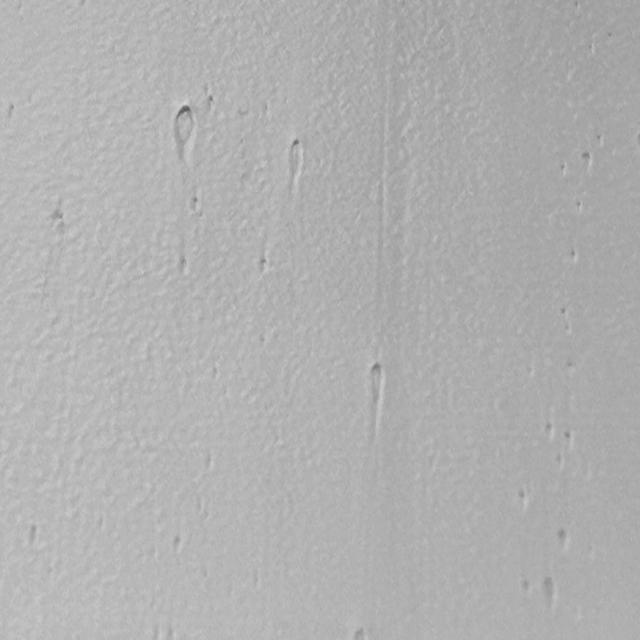pin holes: (170, 106, 200, 156), (284, 141, 305, 180), (367, 362, 386, 397), (540, 576, 558, 608), (25, 524, 46, 549), (554, 528, 572, 555), (578, 151, 596, 174), (514, 487, 532, 510), (564, 358, 582, 381), (540, 420, 556, 442), (204, 83, 216, 111), (52, 208, 68, 228), (258, 254, 272, 276), (190, 195, 204, 215), (568, 248, 582, 268), (564, 430, 578, 450), (179, 256, 192, 277), (170, 535, 184, 554), (350, 625, 370, 638), (519, 578, 533, 596), (553, 450, 565, 471), (557, 305, 570, 321), (7, 103, 19, 120), (558, 161, 570, 177), (574, 199, 586, 214)
